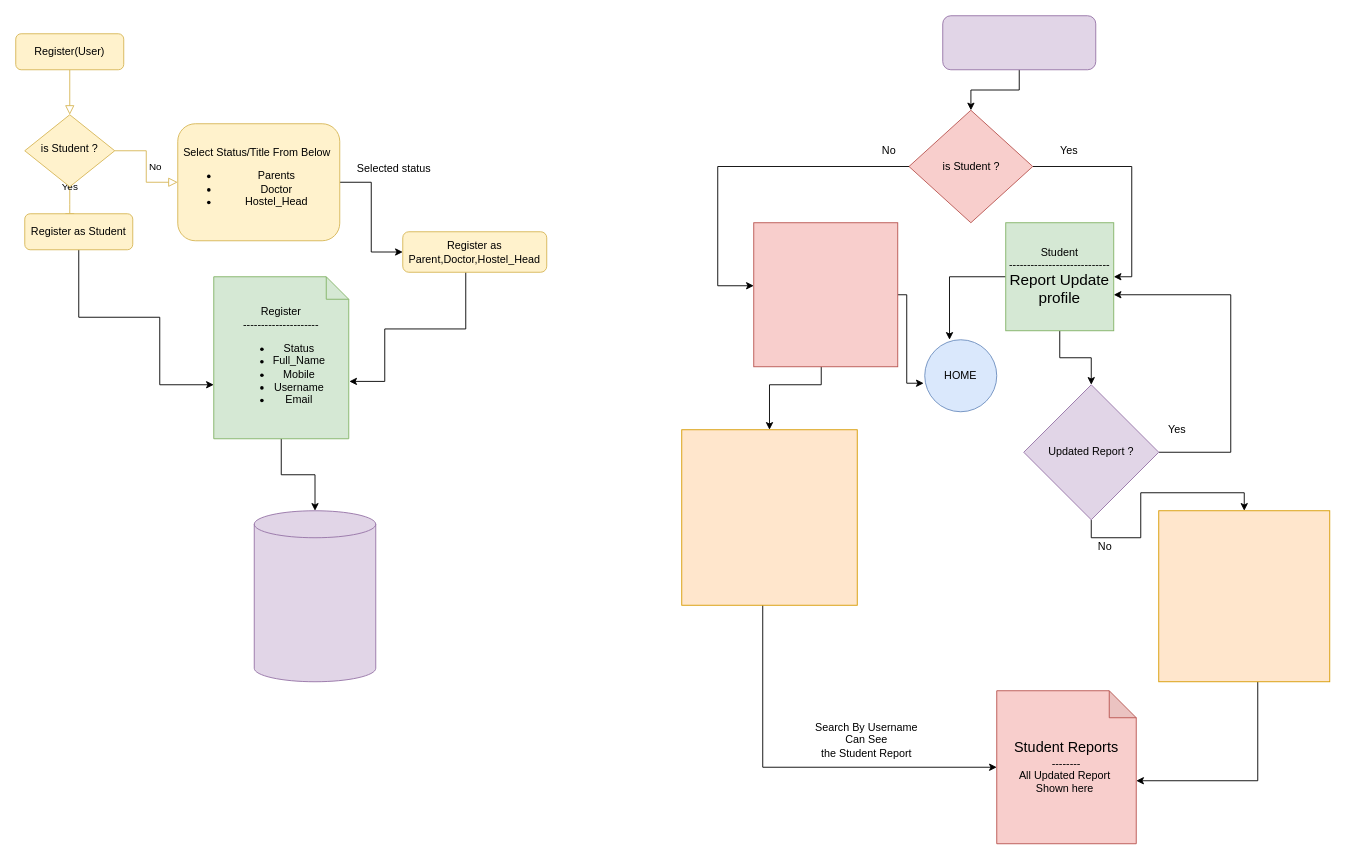
Some shapes in this 1346 by 860 pixel diagram are drawn without their labels. The shapes that lost their labels are listed below. From the top down, each one's centre as x and y in pixels, then its label:
At pixel 1019 42: "Login".
At pixel 825 294: "Parent,Doctor,Hostel_Head --------------------------- Connections Profile".
At pixel 769 517: "Connections ------ Find Student and See All Reports by searching.".
At pixel 314 596: "Database".
At pixel 1244 596: "Report Update ---------- Answering Question asked by MedG".
